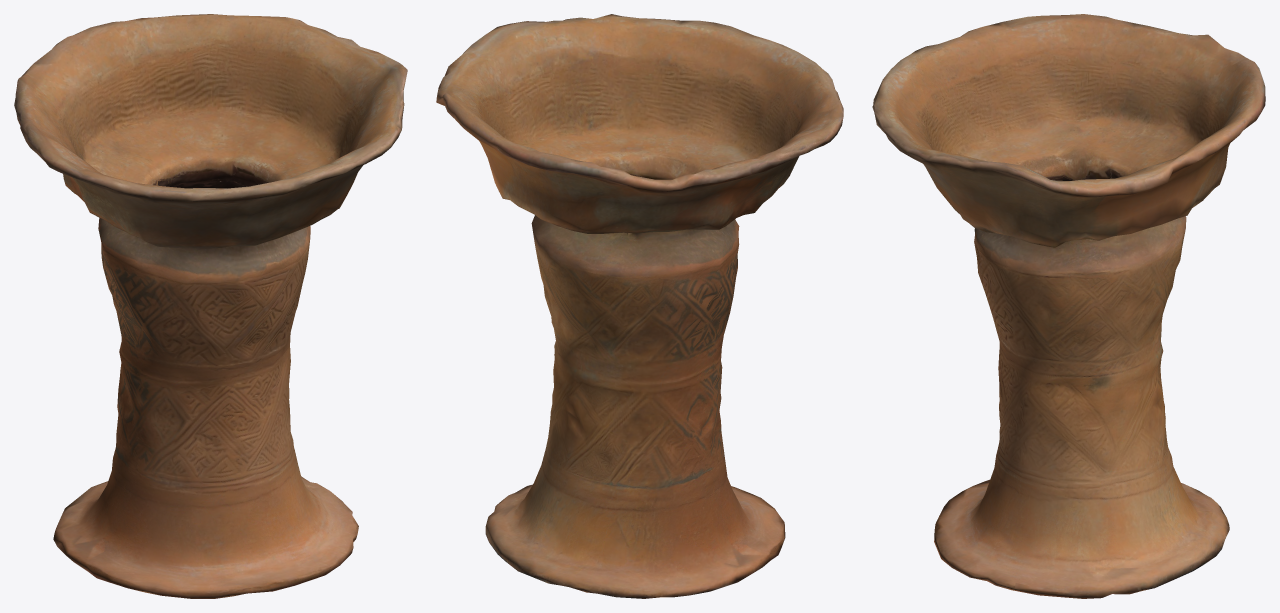
File: Copa.glb
3 views of the same model, side by side, from view 1: azimuth 30°, elevation 25°; view 2: azimuth 150°, elevation 25°; view 3: azimuth 270°, elevation 25° (orthographic).
Size of the model in its own units: 1.68 by 2 by 1.59.
1 material, 1 textured.
